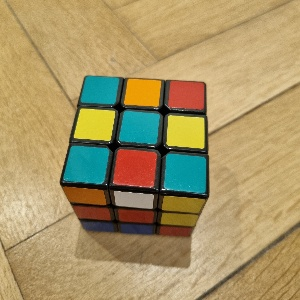cube: (60, 74, 211, 238)
